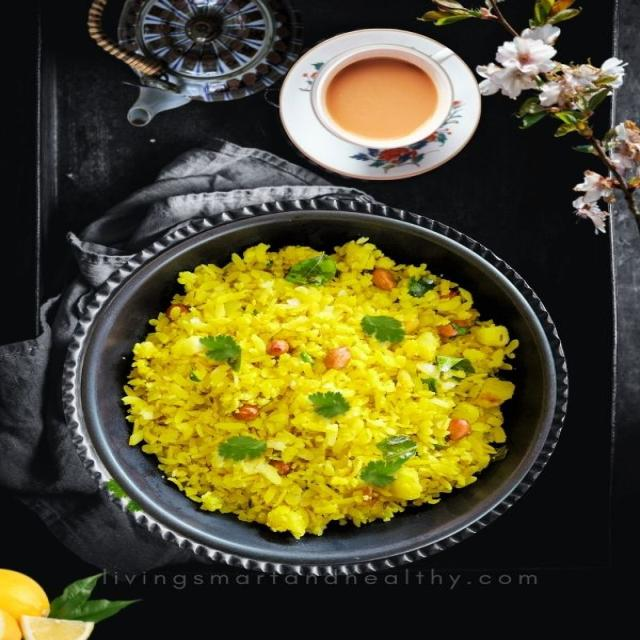POHA: (123, 238, 515, 532)
